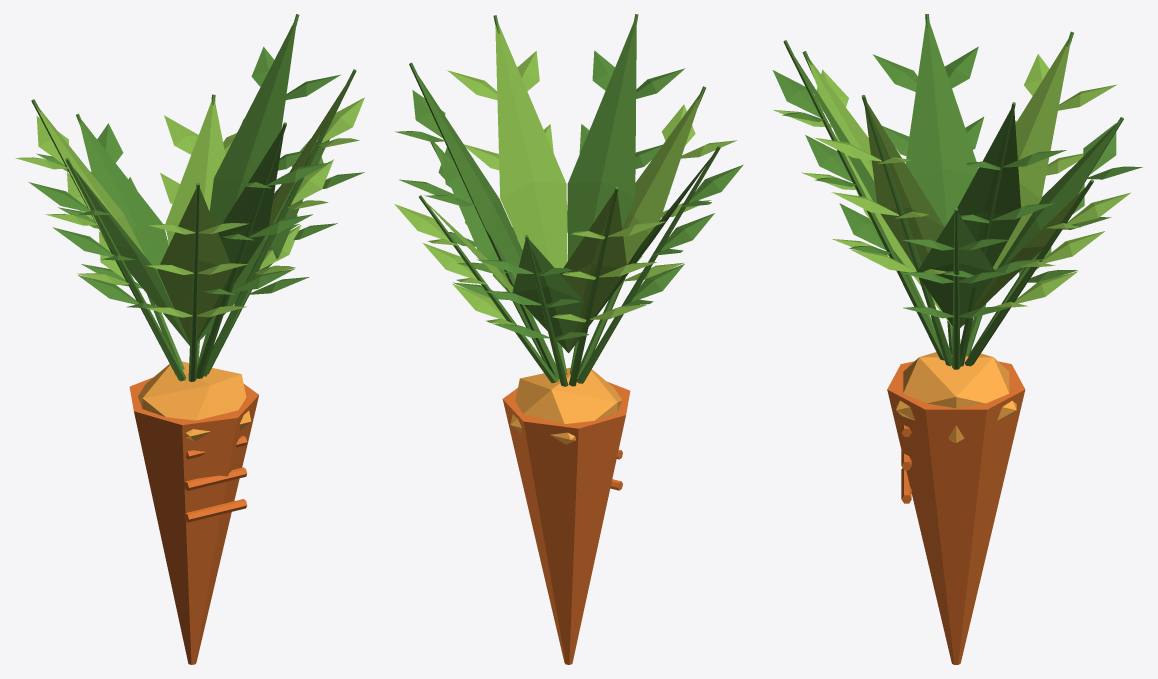
The model's file is carrot_harvest.glb.
The picture shows the model from 3 angles, left to right: view 1: azimuth 30°, elevation 25°; view 2: azimuth 150°, elevation 25°; view 3: azimuth 270°, elevation 25°; orthographic projection. The views are drawn at different scales.
Visible parts, largest first — view 1: carrot_harvest_Mesh; view 2: carrot_harvest_Mesh; view 3: carrot_harvest_Mesh.
Boxes of the visible parts, x1,y1,x2,y2 form: carrot_harvest_Mesh: (15,14,364,664); carrot_harvest_Mesh: (394,14,743,664); carrot_harvest_Mesh: (772,14,1142,664).
Bounding box in the file's own units: 0.58 × 1.08 × 0.5769.
